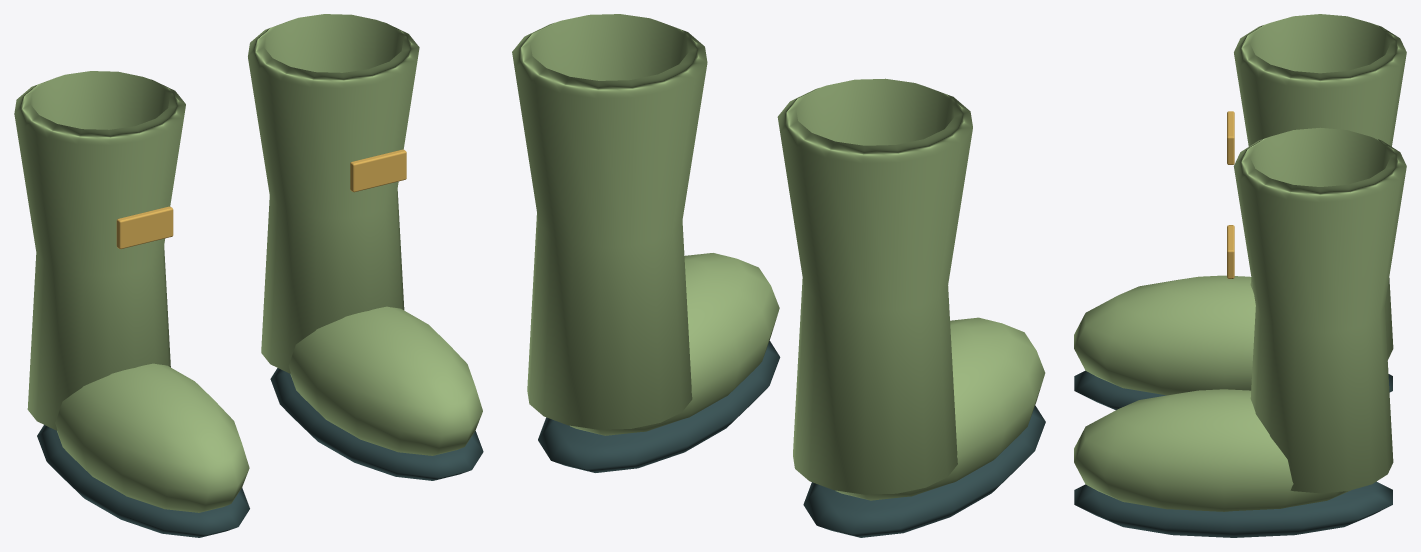
File: almanac-gardens-rain-boots-6aeff958__22069.glb
3 renders of one model, left to right at view 1: azimuth 30°, elevation 25°; view 2: azimuth 150°, elevation 25°; view 3: azimuth 270°, elevation 25°, orthographic. The views are drawn at different scales.
Visible parts, largest first — view 1: rain-boots-sage, rain-boots-iron, rain-boots-gold; view 2: rain-boots-sage, rain-boots-iron; view 3: rain-boots-sage, rain-boots-iron, rain-boots-gold.
Boxes of the visible parts, x1,y1,x2,y2 form: rain-boots-sage: (14,14,482,512); rain-boots-iron: (37,368,483,537); rain-boots-gold: (116,149,406,249); rain-boots-sage: (512,14,1045,500); rain-boots-iron: (538,340,1045,537); rain-boots-sage: (1074,14,1406,511); rain-boots-iron: (1074,370,1392,537); rain-boots-gold: (1227,111,1234,278).
Bounding box in the file's own units: 0.46 × 0.417 × 0.346.
